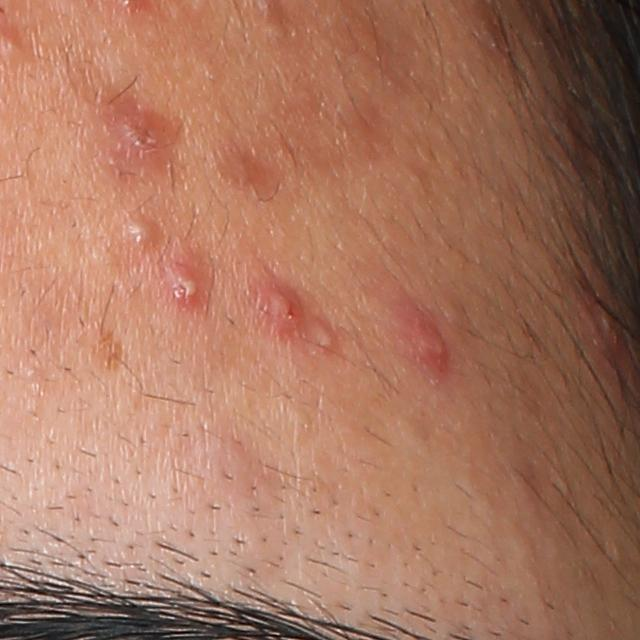papule: (110, 104, 178, 160), (398, 306, 452, 369), (252, 278, 309, 334)
pustule: (311, 322, 336, 353)
